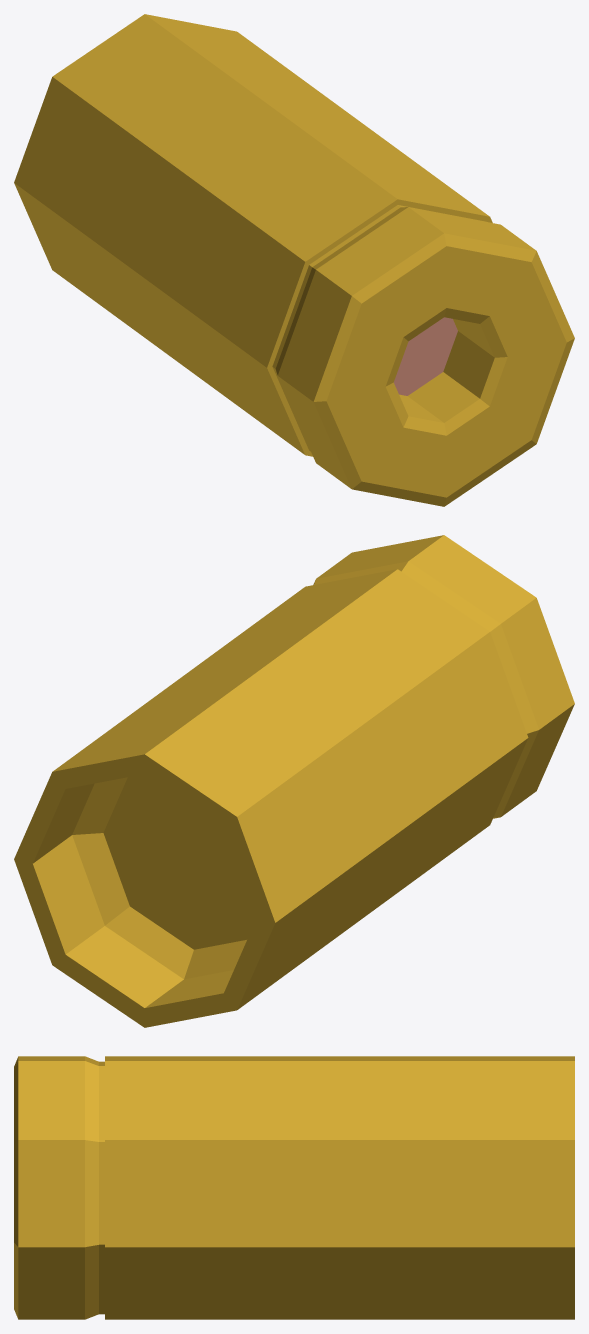
File: douillePistol.fbx
3 renders of one model, top to bottom at view 1: azimuth 30°, elevation 25°; view 2: azimuth 150°, elevation 25°; view 3: azimuth 270°, elevation 25°, orthographic. The views are drawn at different scales.
Visible parts, largest first — view 1: Cylinder; view 2: Cylinder; view 3: Cylinder.
Part boxes in pixels (<box>): Cylinder: <box>14,14,574,506</box>; Cylinder: <box>14,535,574,1027</box>; Cylinder: <box>14,1056,574,1319</box>.
Bounding box in the file's own units: 15.78 × 15.78 × 31.57.
1 material, 1 textured.
